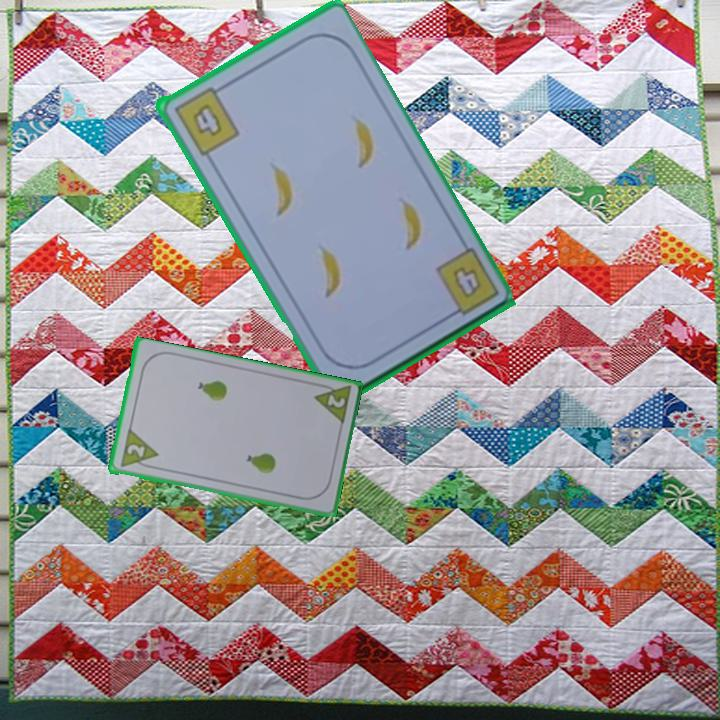2p: (310, 380, 354, 428), (123, 441, 148, 460)
4b: (169, 81, 242, 158), (449, 262, 484, 302)
